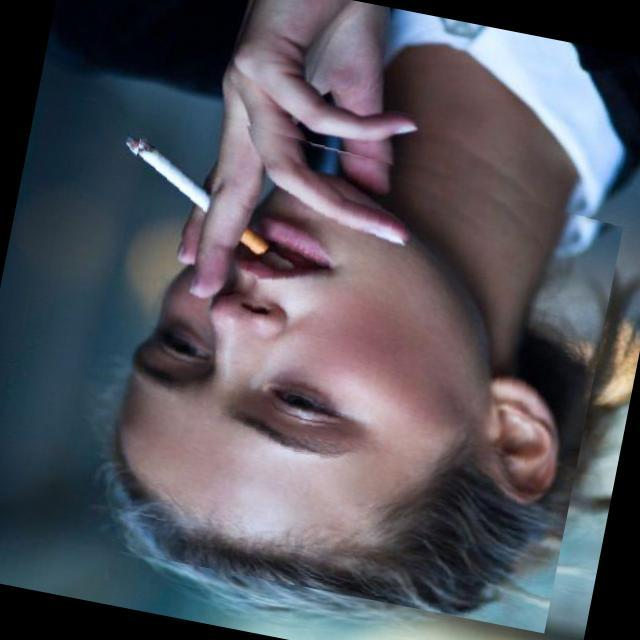cigarette: (65, 100, 316, 268)
